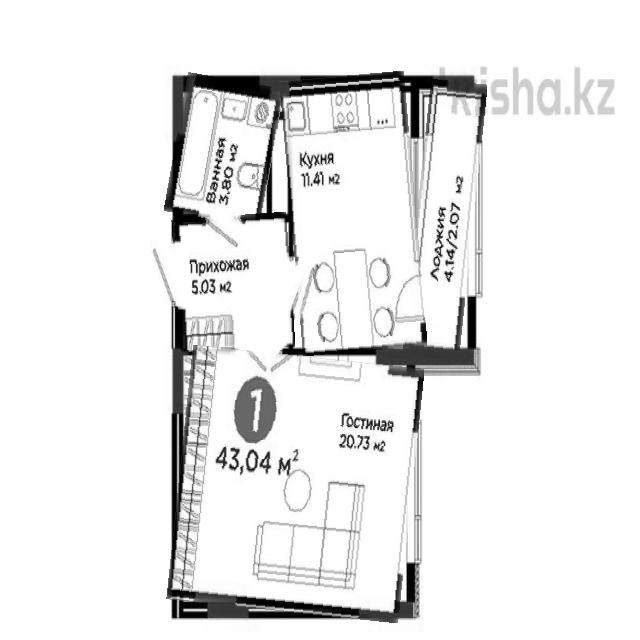balcony: (409, 80, 480, 358)
bathroom: (170, 76, 278, 223)
hallway: (285, 73, 422, 354), (174, 214, 293, 354)
living_room: (173, 351, 418, 618)
